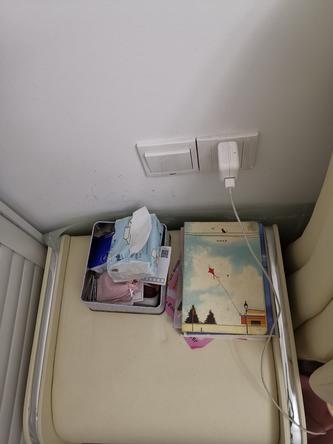switch: (142, 148, 197, 175)
